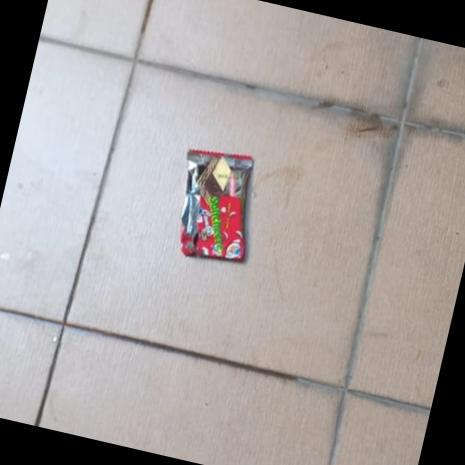Plastik: (164, 141, 266, 268)
